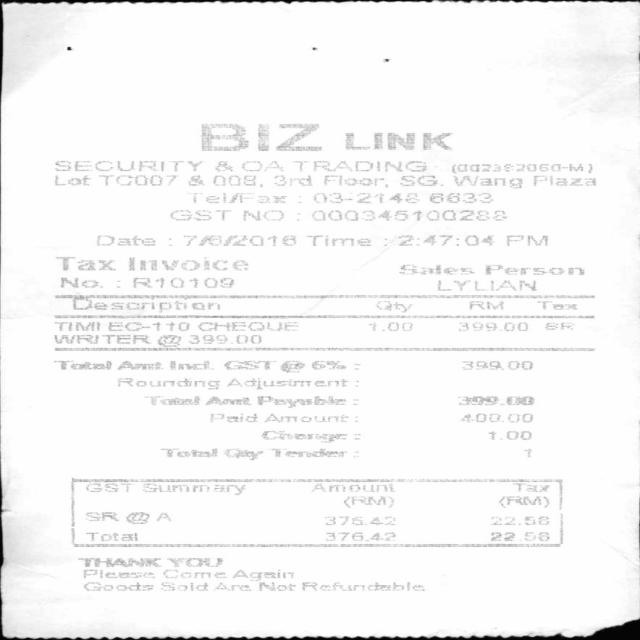text: (198, 122, 322, 150), (70, 298, 220, 312), (312, 192, 492, 203), (309, 210, 507, 220), (344, 132, 452, 150), (126, 256, 246, 270), (53, 160, 203, 171), (292, 160, 426, 172), (52, 320, 188, 331), (450, 163, 592, 173), (182, 234, 294, 246), (227, 378, 347, 389), (115, 377, 218, 389), (436, 279, 536, 291), (185, 191, 284, 203), (140, 483, 245, 494), (259, 429, 347, 442), (397, 234, 492, 246), (130, 277, 232, 288), (256, 395, 346, 407), (484, 264, 584, 274), (301, 582, 424, 590), (451, 174, 521, 188), (52, 334, 149, 344), (97, 174, 176, 186), (197, 321, 296, 330), (54, 256, 115, 270), (264, 413, 346, 423), (304, 234, 371, 246), (531, 174, 595, 186), (311, 483, 395, 492), (279, 360, 347, 371), (398, 264, 472, 274), (188, 334, 262, 344), (95, 234, 155, 246), (461, 360, 533, 370), (266, 448, 346, 457), (456, 396, 534, 405), (458, 321, 528, 331), (76, 558, 160, 566), (231, 569, 292, 580), (460, 413, 533, 422), (323, 516, 395, 525), (324, 532, 396, 541), (82, 569, 153, 578), (82, 582, 152, 591), (342, 495, 394, 507), (322, 175, 383, 185), (168, 210, 229, 220), (488, 516, 548, 526), (52, 359, 111, 369), (162, 569, 226, 578), (497, 496, 549, 507), (143, 395, 199, 405), (160, 447, 216, 457), (84, 532, 138, 542), (504, 234, 546, 246), (222, 448, 262, 460), (489, 532, 548, 540), (223, 360, 275, 369), (240, 160, 282, 171), (212, 174, 254, 185), (367, 321, 413, 331), (374, 300, 412, 312), (116, 360, 161, 370), (272, 174, 312, 185), (58, 277, 98, 288), (84, 482, 132, 491), (168, 558, 222, 566), (158, 582, 206, 591), (240, 210, 283, 220), (487, 430, 530, 440), (208, 413, 255, 422), (534, 300, 576, 310), (167, 360, 209, 370), (204, 396, 249, 405), (52, 174, 88, 185), (398, 175, 437, 185), (467, 300, 503, 310), (512, 482, 548, 492), (211, 582, 250, 591), (257, 582, 294, 591), (156, 334, 179, 346), (82, 512, 116, 520), (125, 512, 149, 523), (542, 322, 574, 329), (212, 160, 231, 171), (186, 174, 202, 185), (156, 512, 168, 520), (523, 447, 531, 457)
